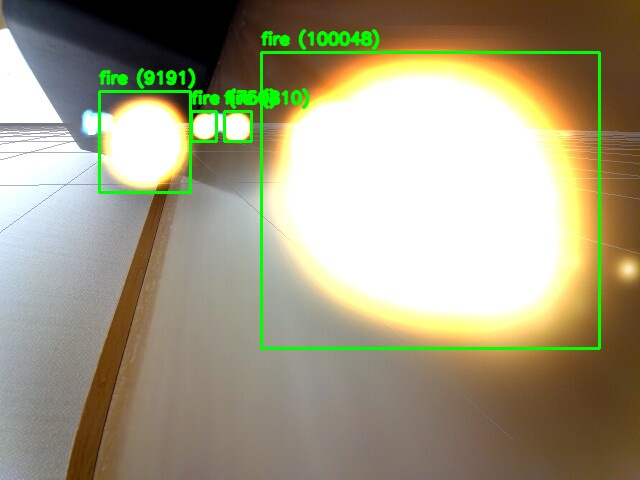fire: (261, 52, 599, 348), (99, 91, 190, 192), (224, 111, 251, 141), (191, 111, 216, 141)
